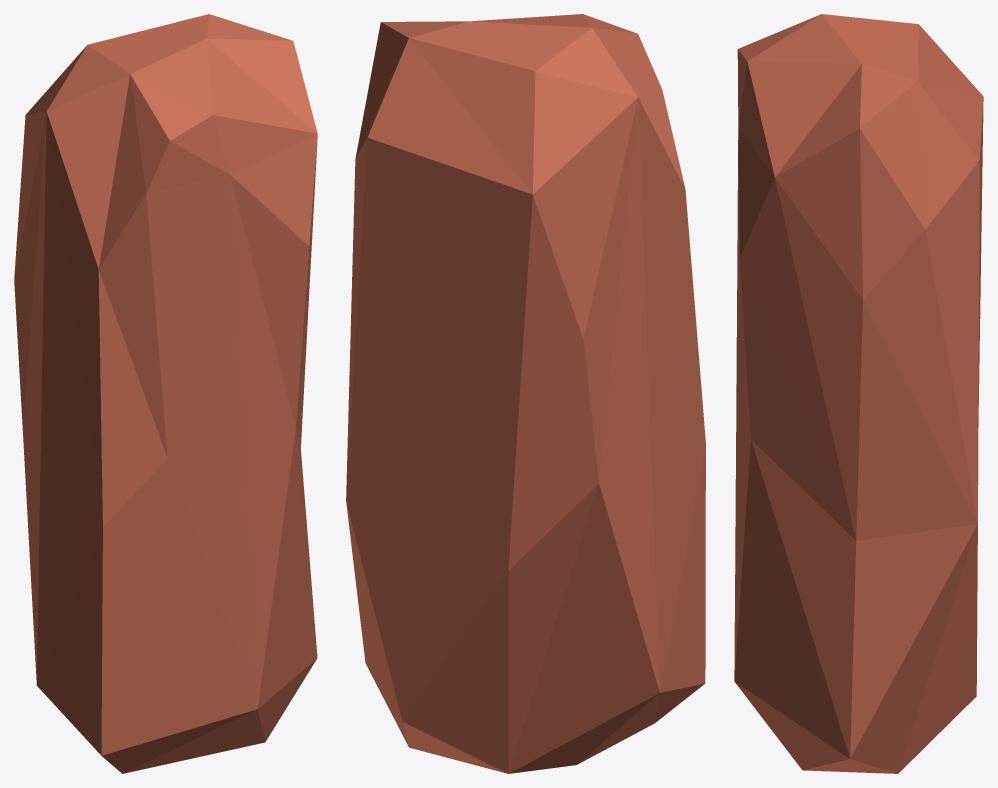
File: boulder_004.fbx
3 views of the same model, side by side, from view 1: azimuth 30°, elevation 25°; view 2: azimuth 150°, elevation 25°; view 3: azimuth 270°, elevation 25° (orthographic). The views are drawn at different scales.
Parts seen in each view (by area): view 1: boulder_004; view 2: boulder_004; view 3: boulder_004.
Boxes of the visible parts, x1=… form: boulder_004: x1=14, y1=14, x2=317, y2=773; boulder_004: x1=346, y1=14, x2=705, y2=773; boulder_004: x1=734, y1=14, x2=983, y2=773.
Bounding box in the file's own units: 687 × 526 × 1619.
